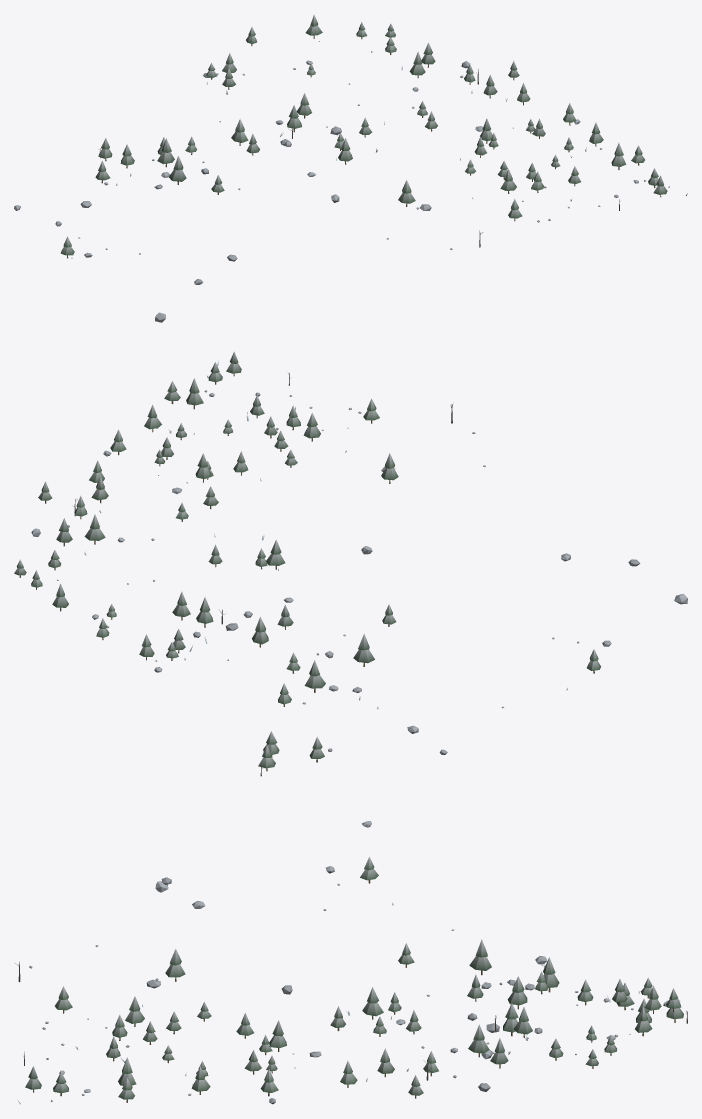
File: frost_land_scatter_c13_09_lod1.glb
The picture shows the model from 3 angles, top to bottom: view 1: azimuth 30°, elevation 25°; view 2: azimuth 150°, elevation 25°; view 3: azimuth 270°, elevation 25°; orthographic projection. The views are drawn at different scales.
Parts seen in each view (by area): view 1: frost_land_scatter_c13_09_lod1; view 2: frost_land_scatter_c13_09_lod1; view 3: frost_land_scatter_c13_09_lod1.
Part boxes in pixels (x1=…): frost_land_scatter_c13_09_lod1: x1=14, y1=14, x2=687, y2=322; frost_land_scatter_c13_09_lod1: x1=14, y1=351, x2=687, y2=827; frost_land_scatter_c13_09_lod1: x1=15, y1=857, x2=687, y2=1104.
Bounding box in the file's own units: 257 × 71.37 × 255.
